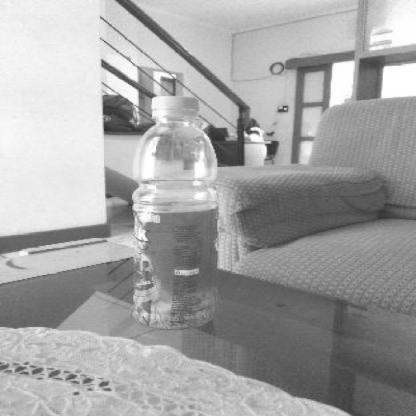plastic_bottles: (129, 95, 223, 333)
